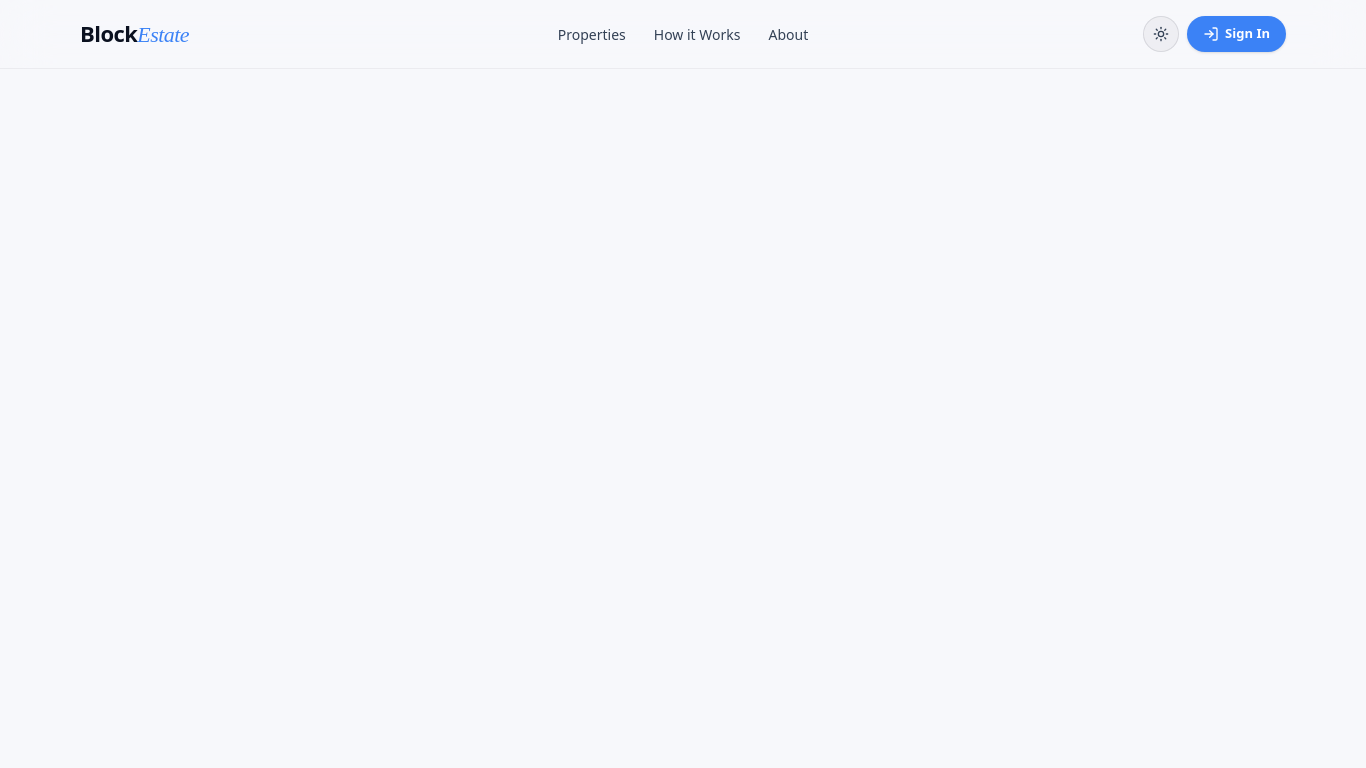
Test case: Navbar authentication › shows validation errors when sign in fields are invalid
Click the button "Sign In" at (1237, 34), box [1187,16,1286,52]
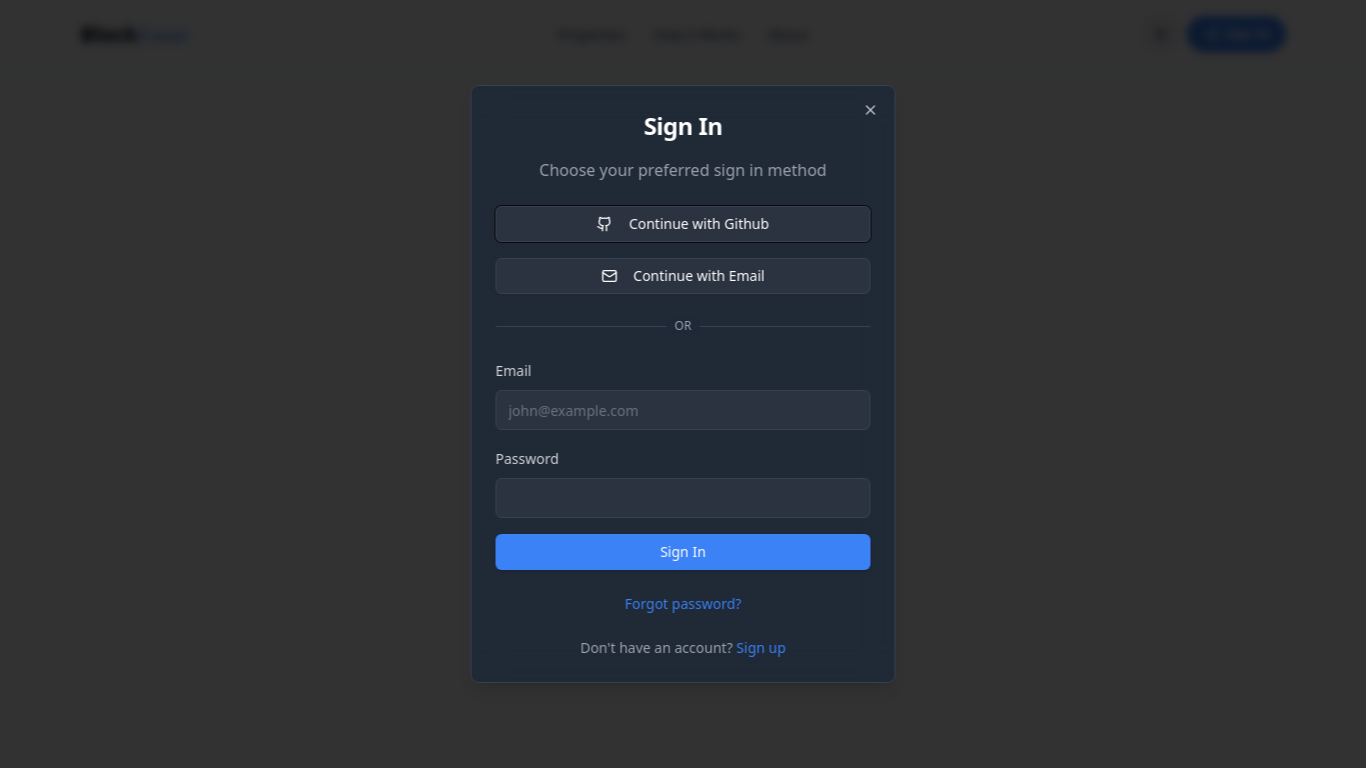
Click the button "Sign In" at (683, 552), box [496,534,870,570]
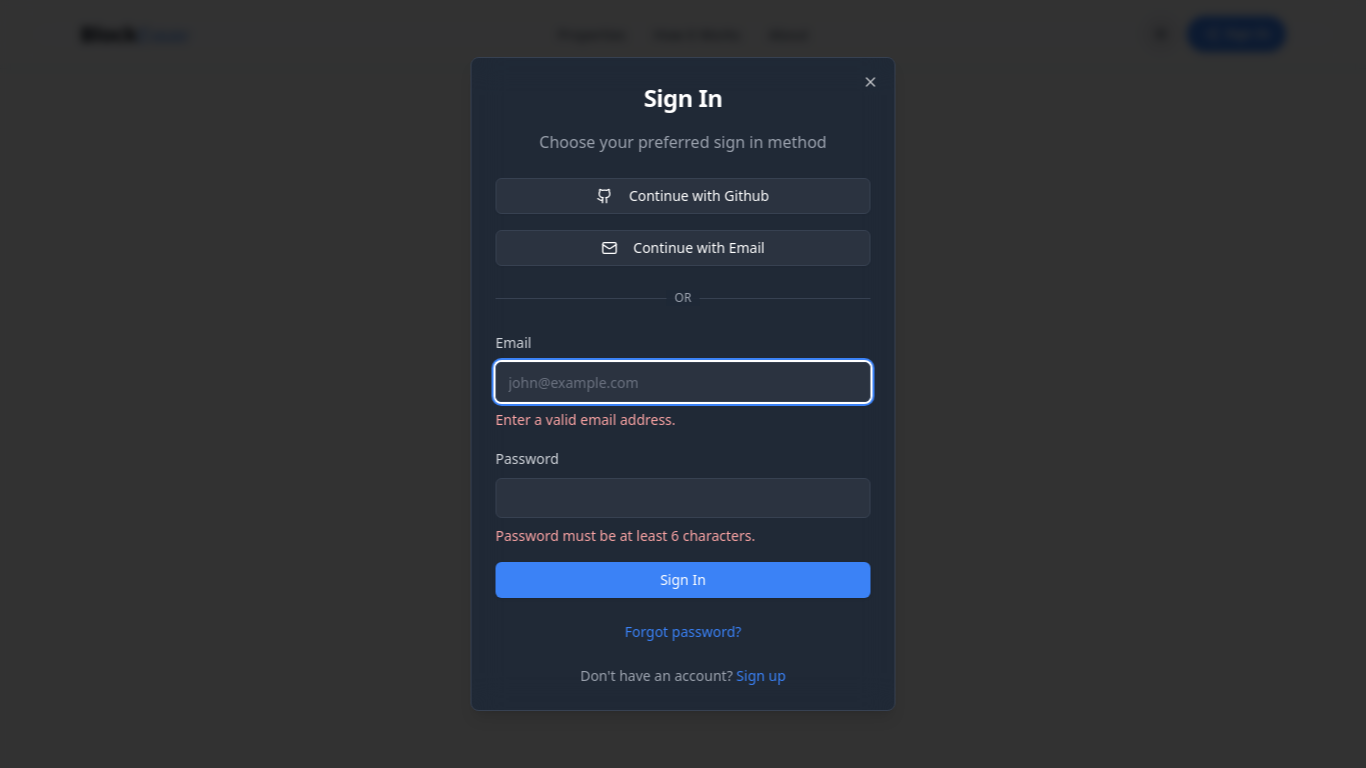
Check: the dialog "Sign In" is shown, box [470,57,896,711]
Check: the text "Enter a valid email address." is shown, box [496,410,676,429]
Check: the text "Password must be at least 6 characters." is shown, box [496,526,755,545]
